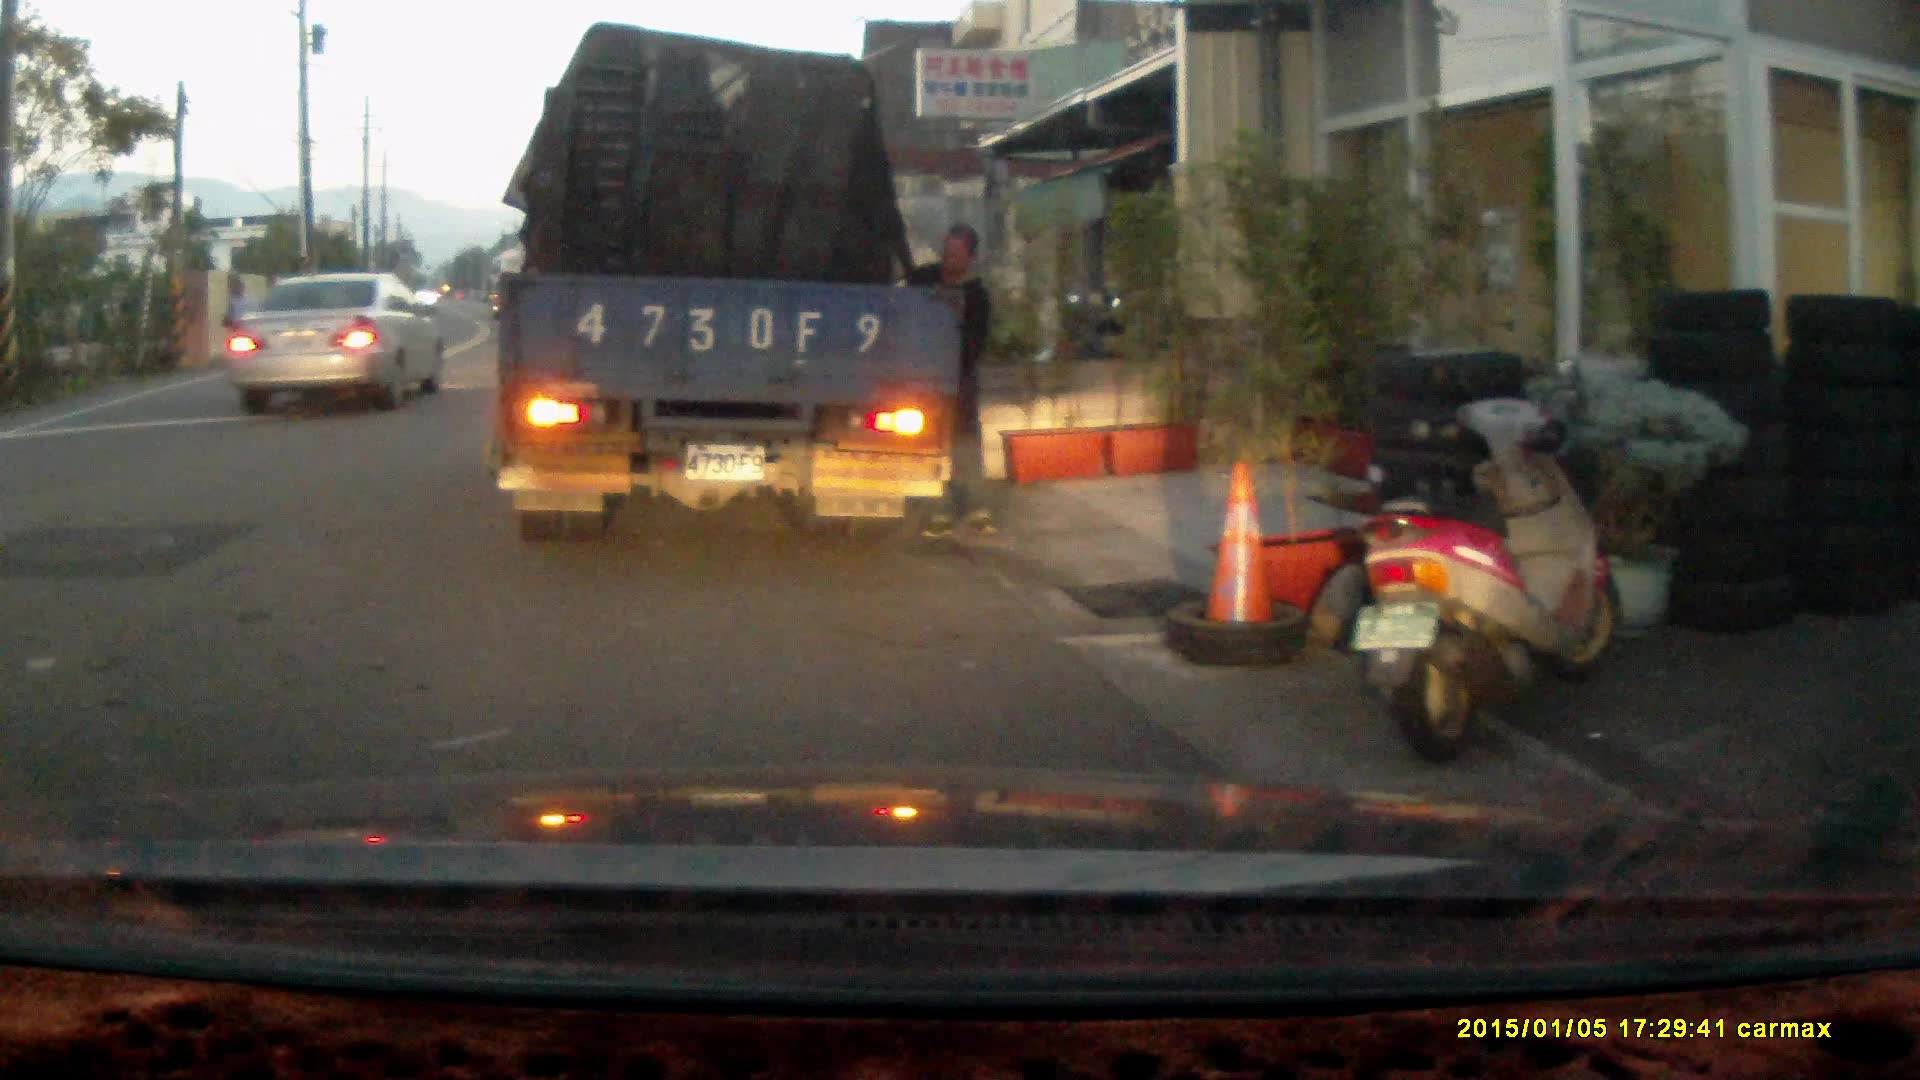pedestrian: (904, 220, 996, 541), (216, 276, 255, 368)
vehicle: (504, 29, 972, 541), (232, 271, 452, 414)
